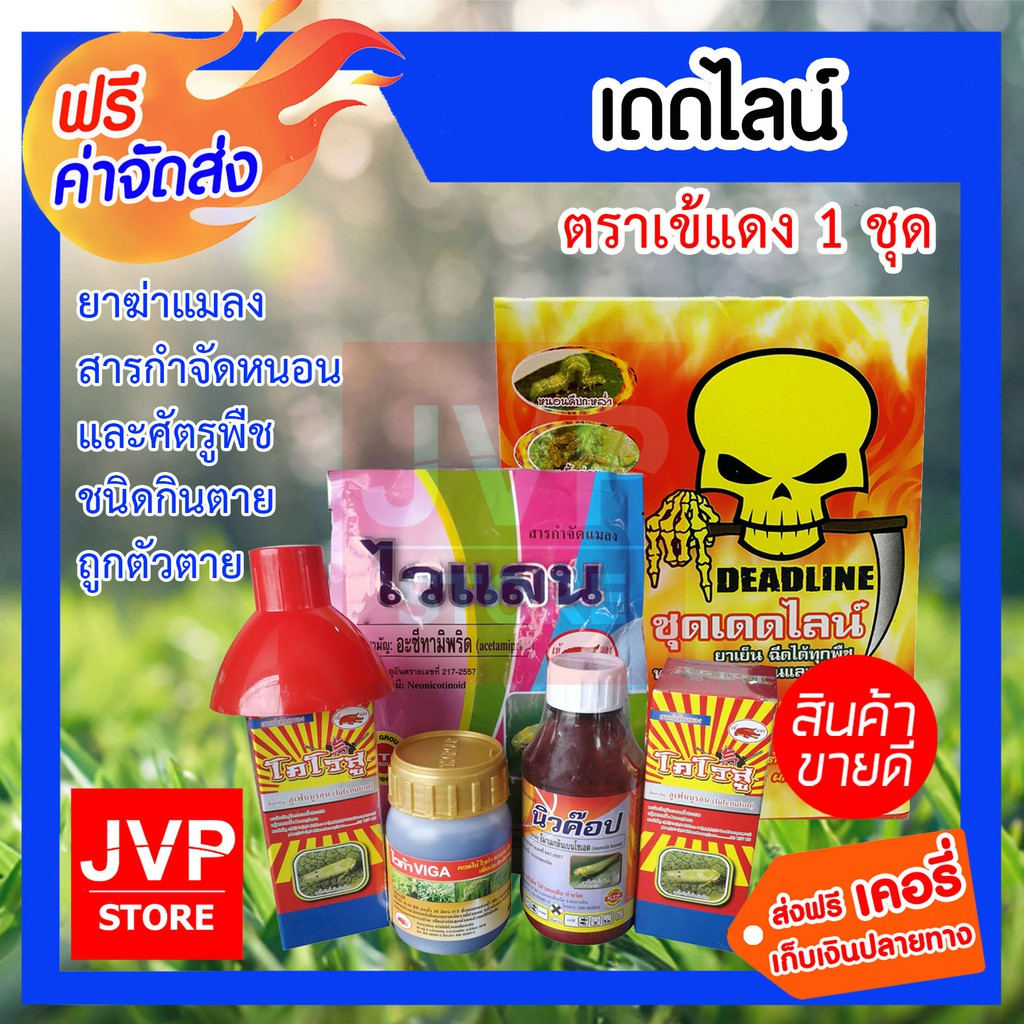Insecticide: (313, 457, 653, 720), (516, 638, 652, 963), (365, 714, 525, 967)
